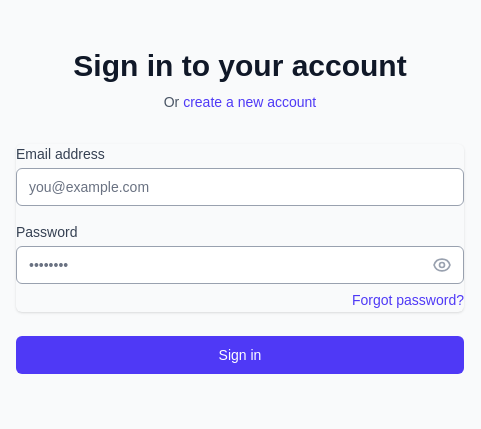
Scenario: LoginPage › displays error message for invalid credentials
Step 1. Type "bad@example.com" into the field labelled "Email address" → (240, 187), box [16, 168, 464, 206]
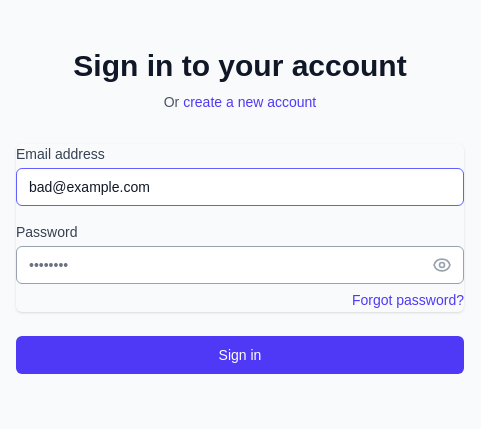
Step 2. Type "wrongpassword" into the password field labelled "Password" → (240, 265), box [16, 246, 464, 284]
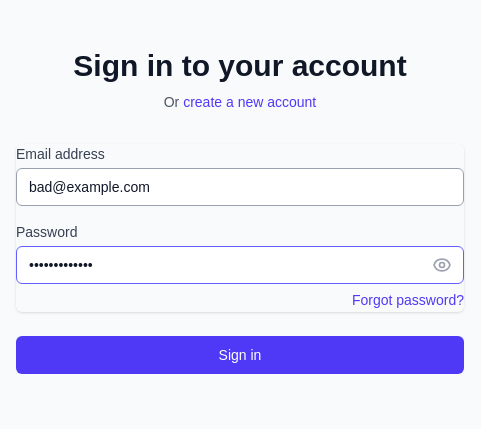
Step 3. Click the button "Sign in" → (240, 355), box [16, 336, 464, 374]
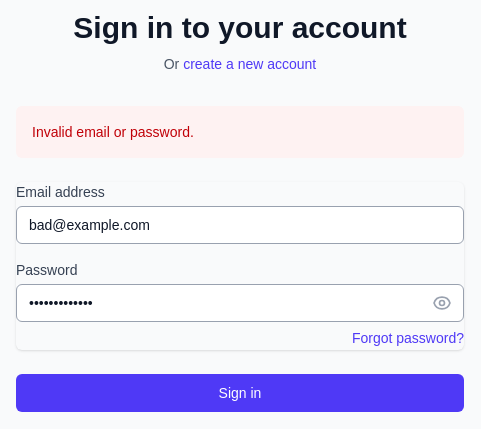
Expected: the text "Invalid email or password." is shown, [32, 124, 194, 140]
